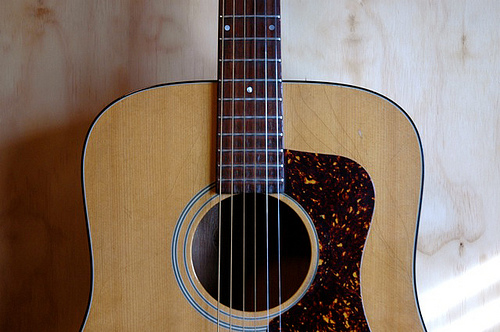guitar: (74, 1, 431, 332)
